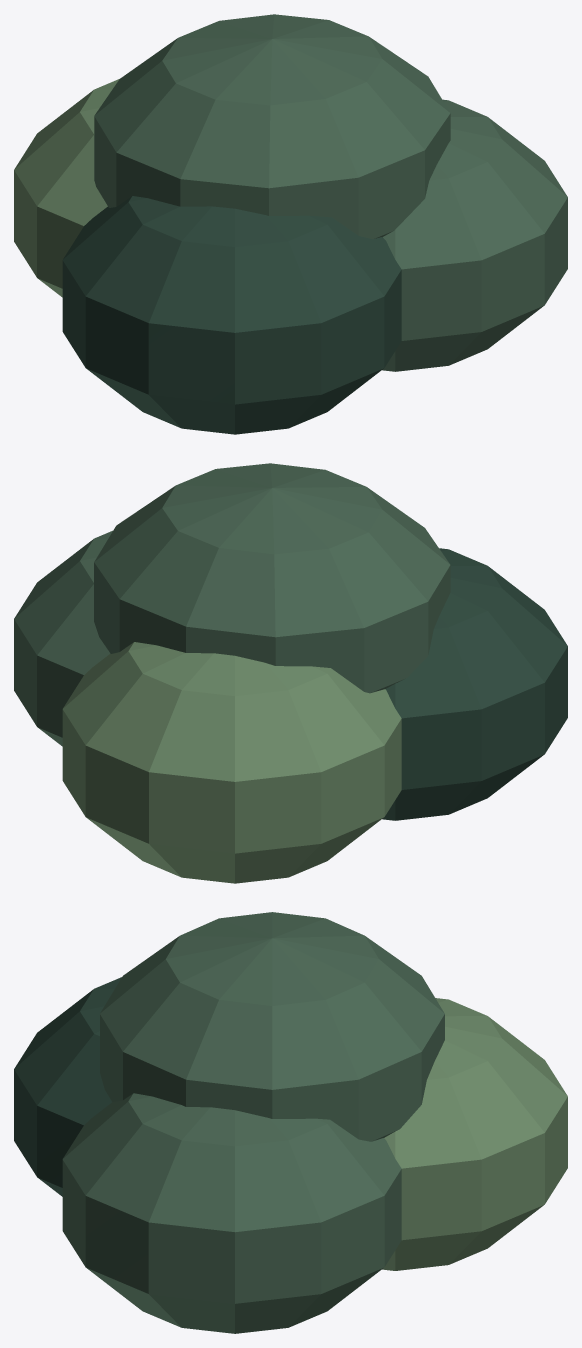
File: low.shrub.a.glb
The picture shows the model from 3 angles, top to bottom: view 1: azimuth 30°, elevation 25°; view 2: azimuth 150°, elevation 25°; view 3: azimuth 270°, elevation 25°; orthographic projection.
Bounding box in the file's own units: 0.7077 × 0.45 × 0.7022.
